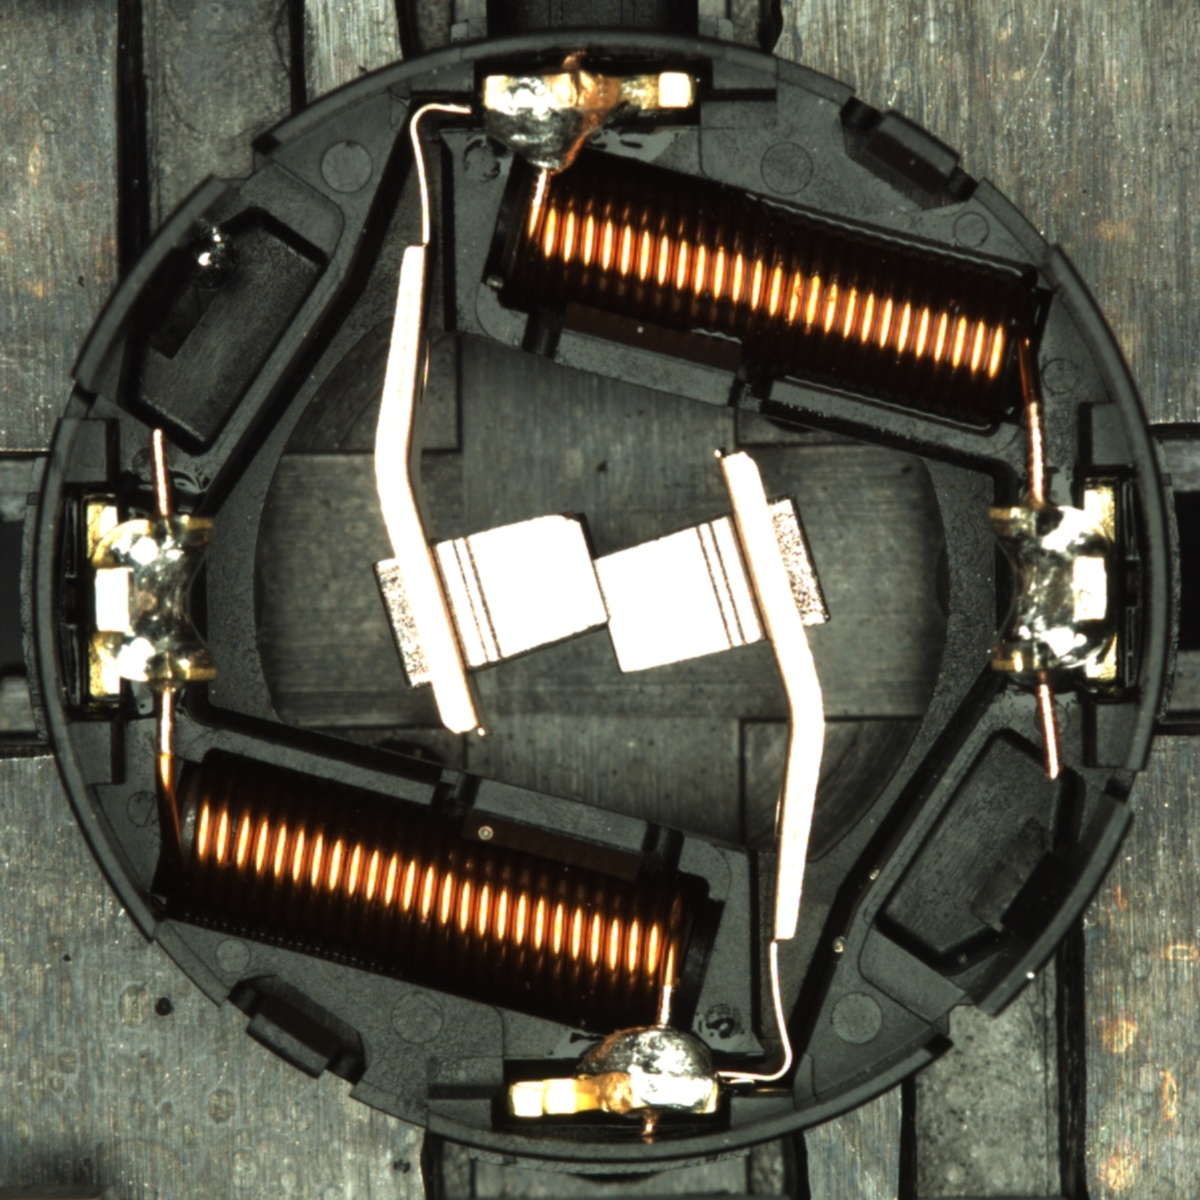1: (712, 929, 942, 1153), (254, 31, 482, 255)
2: (712, 31, 942, 255), (254, 929, 482, 1153)
3: (942, 704, 1170, 929)
4: (254, 255, 482, 480), (712, 704, 942, 929)
5: (482, 143, 712, 368), (482, 816, 712, 1041)
6: (712, 255, 942, 480), (254, 704, 482, 929)
7: (942, 255, 1170, 480), (24, 704, 254, 929)
cacbon: (395, 499, 801, 685)
chau_dien: (80, 499, 221, 699), (982, 486, 1123, 685)
tay_choi: (479, 68, 699, 175), (505, 1019, 721, 1120)
thanh_de: (953, 784, 1141, 1032)
vun_chi: (188, 223, 240, 290)
